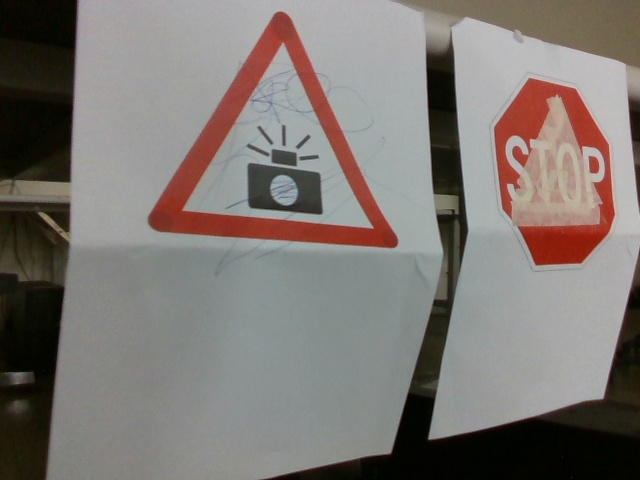camera: (151, 9, 401, 252)
stop: (498, 74, 616, 272)
